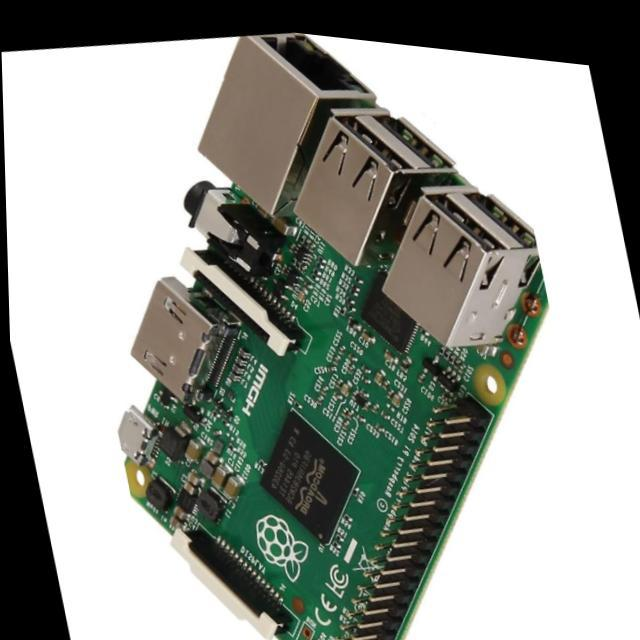Raspberry-Pi-2-B: (120, 36, 549, 640)
